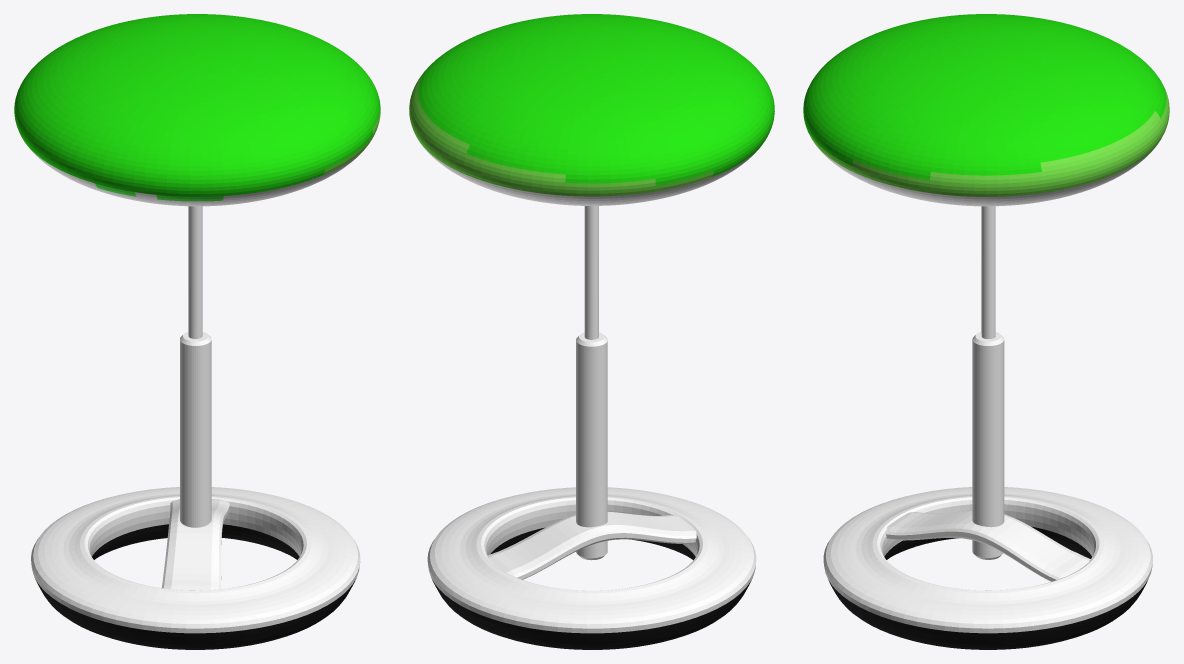
File: Tabouret.fbx
3 renders of one model, left to right at view 1: azimuth 30°, elevation 25°; view 2: azimuth 150°, elevation 25°; view 3: azimuth 270°, elevation 25°, orthographic.
Visible parts, largest first — view 1: Siege, Pieds, Barre, Barre centre, Hauteur; view 2: Siege, Pieds, Barre, Barre centre, Hauteur; view 3: Siege, Pieds, Barre, Barre centre, Hauteur.
Boxes of the visible parts, bbox=[...] form: Siege: bbox=[14, 14, 380, 206]; Pieds: bbox=[31, 487, 360, 649]; Barre: bbox=[180, 331, 211, 527]; Barre centre: bbox=[161, 499, 229, 590]; Hauteur: bbox=[188, 206, 202, 338]; Siege: bbox=[409, 14, 774, 205]; Pieds: bbox=[427, 487, 756, 649]; Barre: bbox=[576, 332, 607, 560]; Barre centre: bbox=[487, 511, 696, 579]; Hauteur: bbox=[584, 206, 598, 339]; Siege: bbox=[803, 14, 1169, 206]; Pieds: bbox=[823, 487, 1152, 649]; Barre: bbox=[972, 332, 1004, 559]; Barre centre: bbox=[885, 511, 1090, 581]; Hauteur: bbox=[981, 206, 995, 338].
Bounding box in the file's own units: 288 × 467 × 288.
